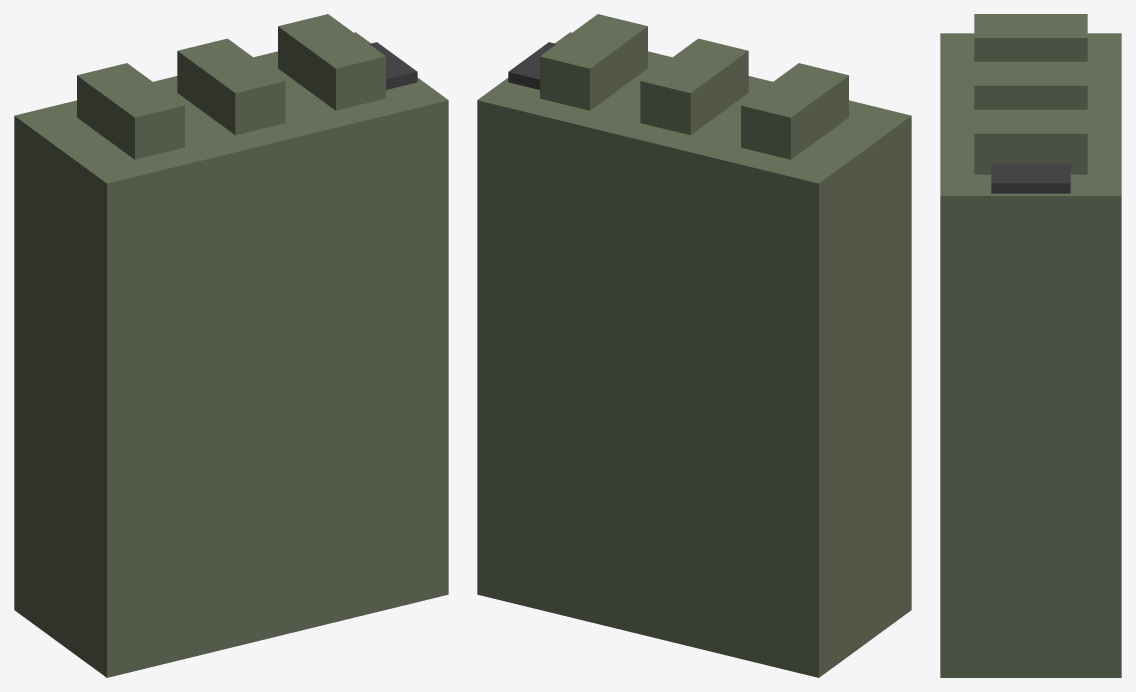
Rendered from fb_jerry_can.glb.
The picture shows the model from 3 angles, left to right: view 1: azimuth 30°, elevation 25°; view 2: azimuth 150°, elevation 25°; view 3: azimuth 270°, elevation 25°; orthographic projection. The views are drawn at different scales.
Parts seen in each view (by area): view 1: fb_jerry_can; view 2: fb_jerry_can; view 3: fb_jerry_can.
Part boxes in pixels (x1,y1,x2,y2): fb_jerry_can: [14, 14, 448, 677]; fb_jerry_can: [477, 14, 911, 677]; fb_jerry_can: [940, 14, 1121, 677].
Size of what is drawn, in the model's own units: 0.34 by 0.51 by 0.16.
